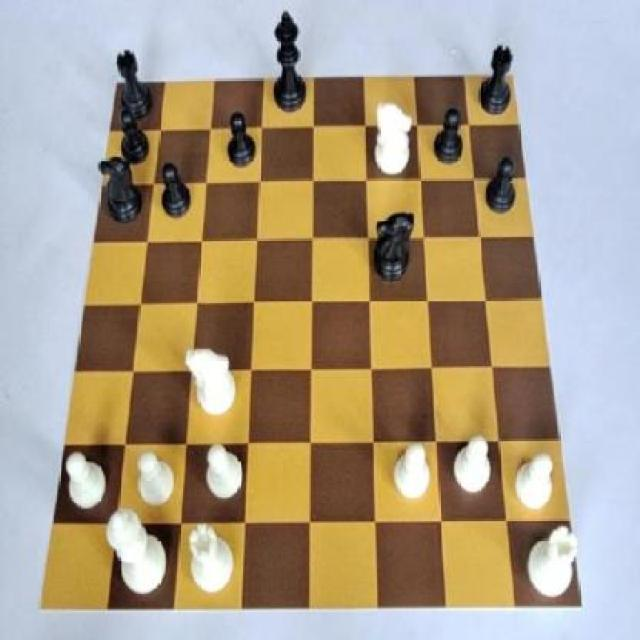black-bishop: (271, 10, 306, 126)
black-king: (369, 211, 422, 291), (99, 152, 146, 232)
black-knight: (114, 104, 157, 174), (428, 102, 467, 174), (480, 154, 518, 223), (156, 158, 194, 221), (225, 106, 258, 176)
black-queen: (111, 51, 160, 129), (472, 45, 518, 122)
white-bishop: (105, 503, 167, 597)
white-king: (185, 341, 243, 424), (372, 103, 413, 185)
white-knight: (449, 430, 502, 504), (59, 446, 112, 514), (508, 443, 554, 519), (134, 444, 178, 514), (391, 436, 432, 508), (198, 443, 248, 502)
white-queen: (523, 511, 580, 600), (188, 518, 243, 602)
